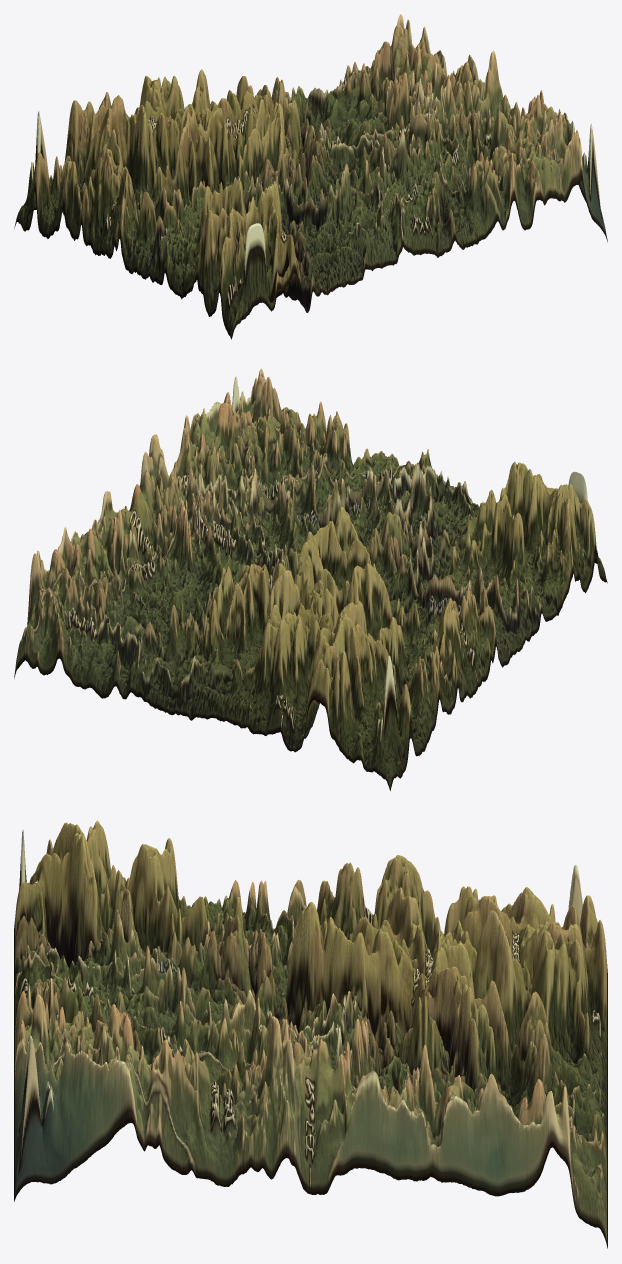
Rendered from terrain-lod1.glb.
3 renders of one model, top to bottom at view 1: azimuth 30°, elevation 25°; view 2: azimuth 150°, elevation 25°; view 3: azimuth 270°, elevation 25°, orthographic. The views are drawn at different scales.
Parts seen in each view (by area): view 1: geometry_0; view 2: geometry_0; view 3: geometry_0.
Boxes of the visible parts, box(x1,y1,x2,y2) form: geometry_0: box(14, 14, 607, 339); geometry_0: box(14, 368, 607, 790); geometry_0: box(14, 820, 607, 1248).
Size of the model in its own units: 1534 by 732 by 1534.
1 material, 1 textured.
